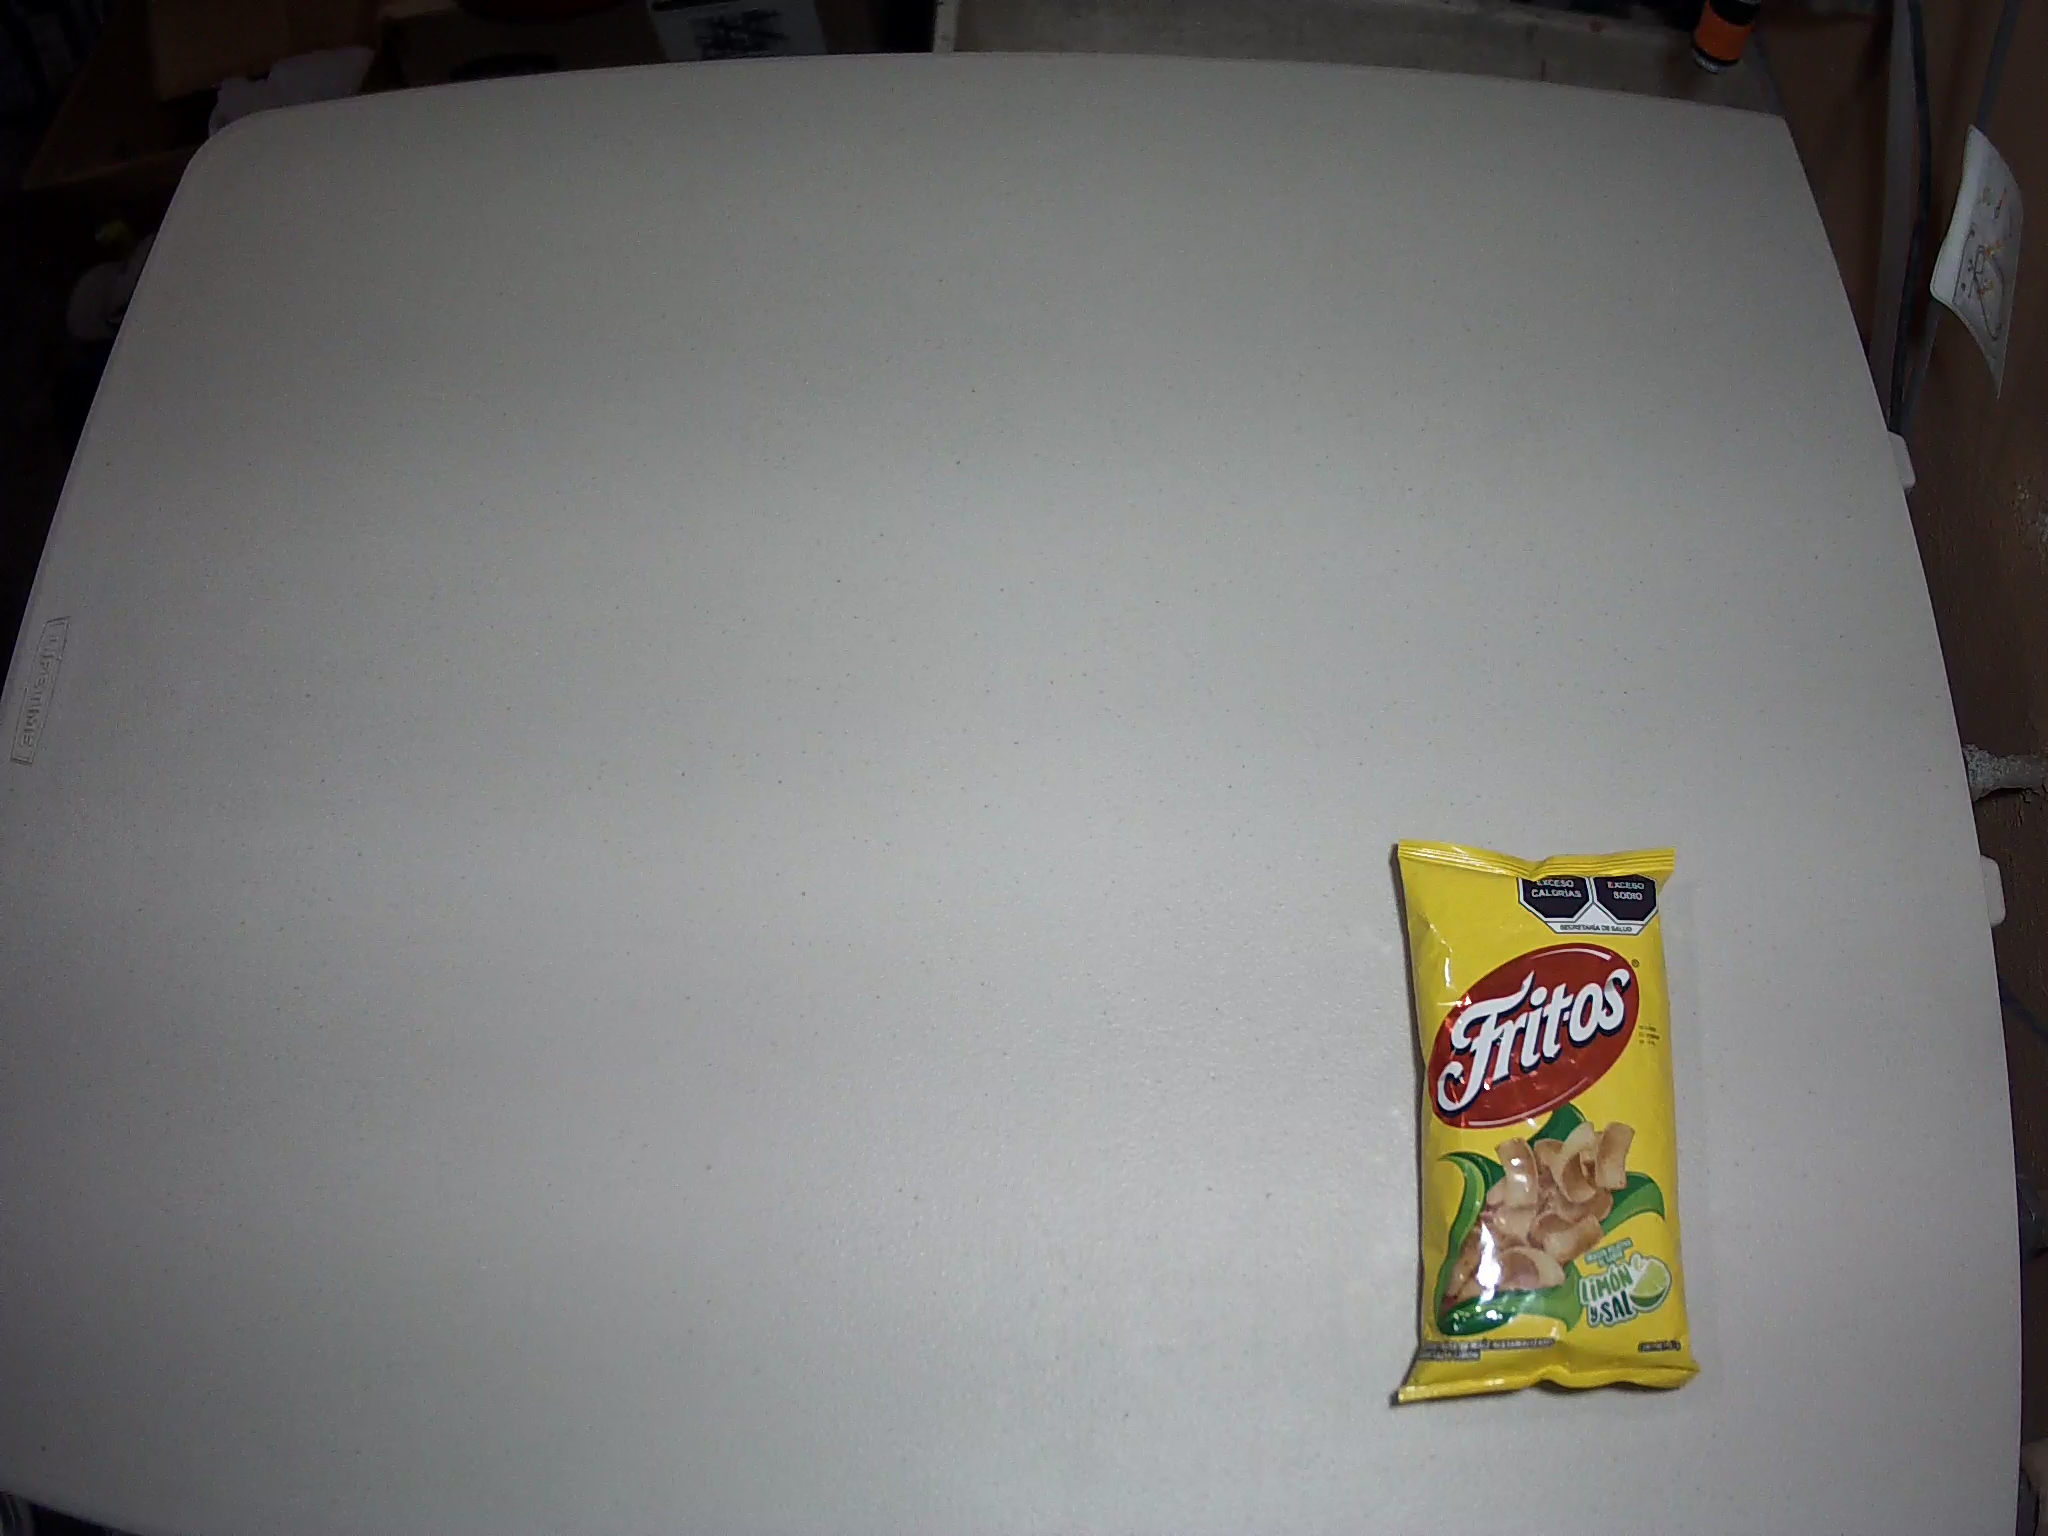FritosSalLimon_65_F: (1393, 837, 1698, 1404)
